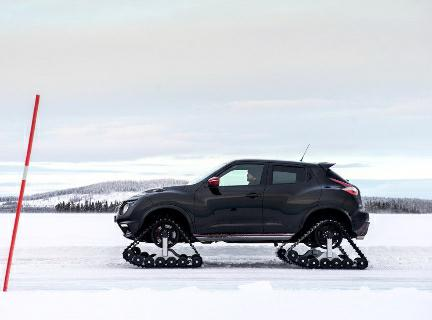日产-JUKE: (110, 152, 382, 280)
